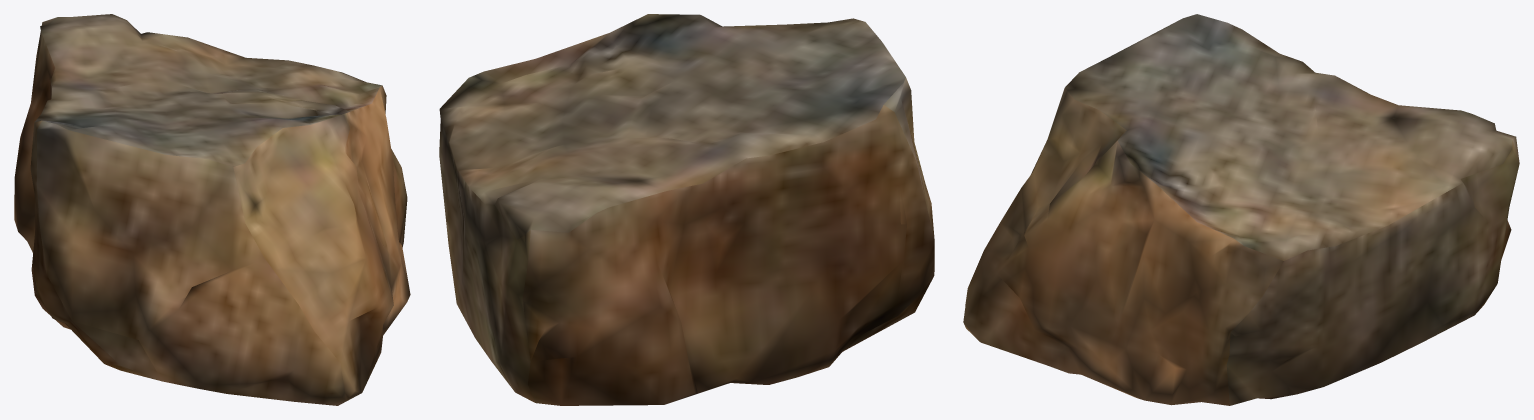
File: natural-boulder-lod2.glb
3 views of the same model, side by side, from view 1: azimuth 30°, elevation 25°; view 2: azimuth 150°, elevation 25°; view 3: azimuth 270°, elevation 25° (orthographic). The views are drawn at different scales.
Visible parts, largest first — view 1: boulder_03_LOD0; view 2: boulder_03_LOD0; view 3: boulder_03_LOD0.
Boxes of the visible parts, box(x1,y1,x2,y2) form: boulder_03_LOD0: box(14, 14, 410, 405); boulder_03_LOD0: box(439, 14, 934, 405); boulder_03_LOD0: box(963, 14, 1519, 405).
Size of the model in its own units: 2.39 by 1.47 by 3.06.
1 material, 1 textured.
